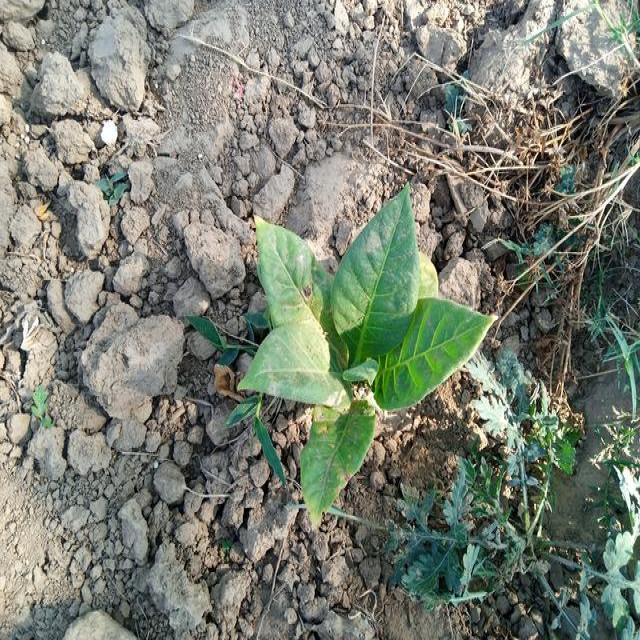crop: (243, 203, 490, 518)
